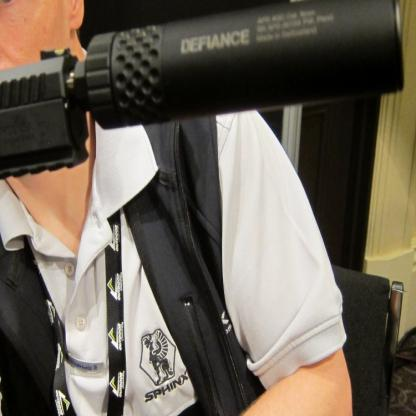gun: (0, 39, 91, 303)
